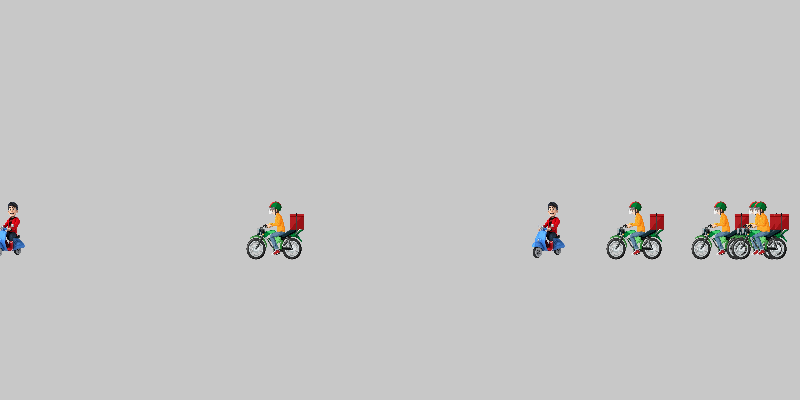helmet: (245, 200, 305, 260), (605, 200, 665, 260), (690, 200, 750, 260), (725, 200, 785, 260), (730, 200, 790, 260)
no_helmet: (520, 200, 580, 260), (0, 200, 40, 260)
